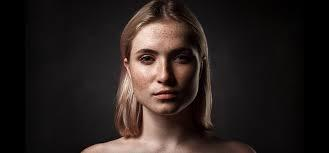scarf-kerchief: (119, 2, 222, 124)
